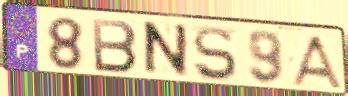8: (44, 15, 86, 72)
9: (245, 28, 286, 87)
A: (288, 33, 346, 90)
B: (90, 17, 140, 76)
N: (142, 20, 190, 79)
S: (191, 25, 240, 84)
